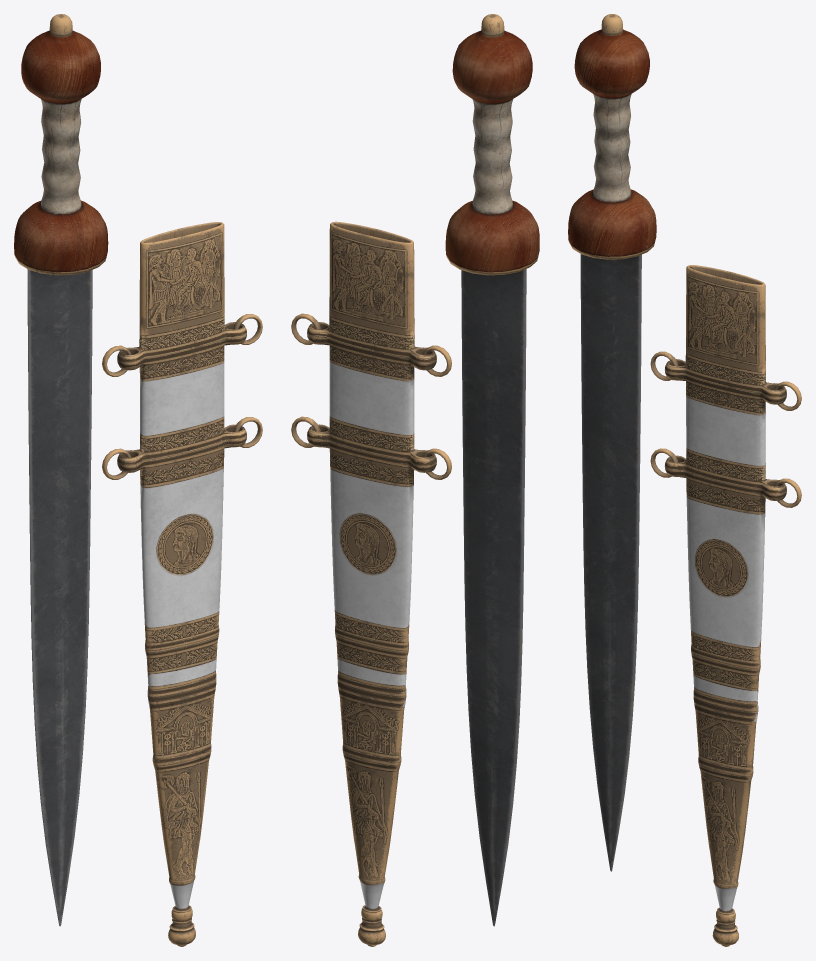
The model's file is sword_of_tiberius.glb.
3 renders of one model, left to right at view 1: azimuth 30°, elevation 25°; view 2: azimuth 150°, elevation 25°; view 3: azimuth 330°, elevation 25°, orthographic. The views are drawn at different scales.
Visible parts, largest first — view 1: Sword_Cube.001; view 2: Sword_Cube.001; view 3: Sword_Cube.001.
Boxes of the visible parts, box(x1,y1,x2,y2) form: Sword_Cube.001: box(14, 14, 262, 946); Sword_Cube.001: box(291, 14, 539, 946); Sword_Cube.001: box(568, 14, 801, 946).
Bounding box in the file's own units: 0.5272 × 2 × 0.1779.
Materials: 1 (1 with a texture image).
